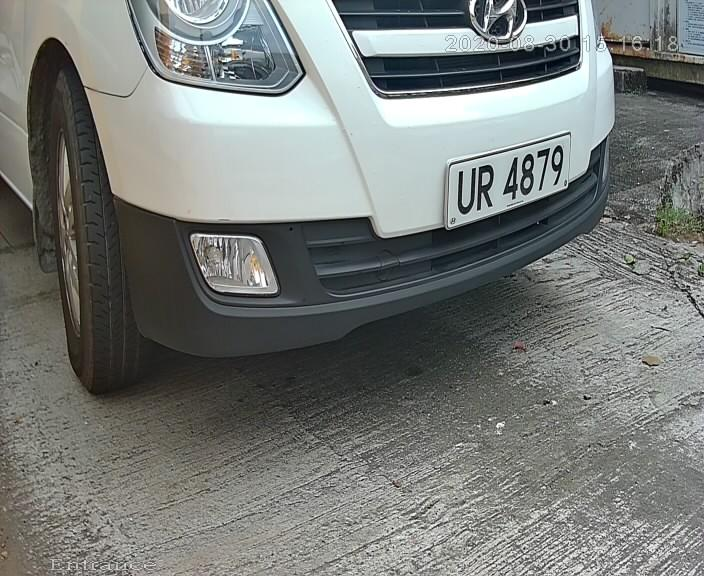License Plate: (431, 124, 585, 232)
